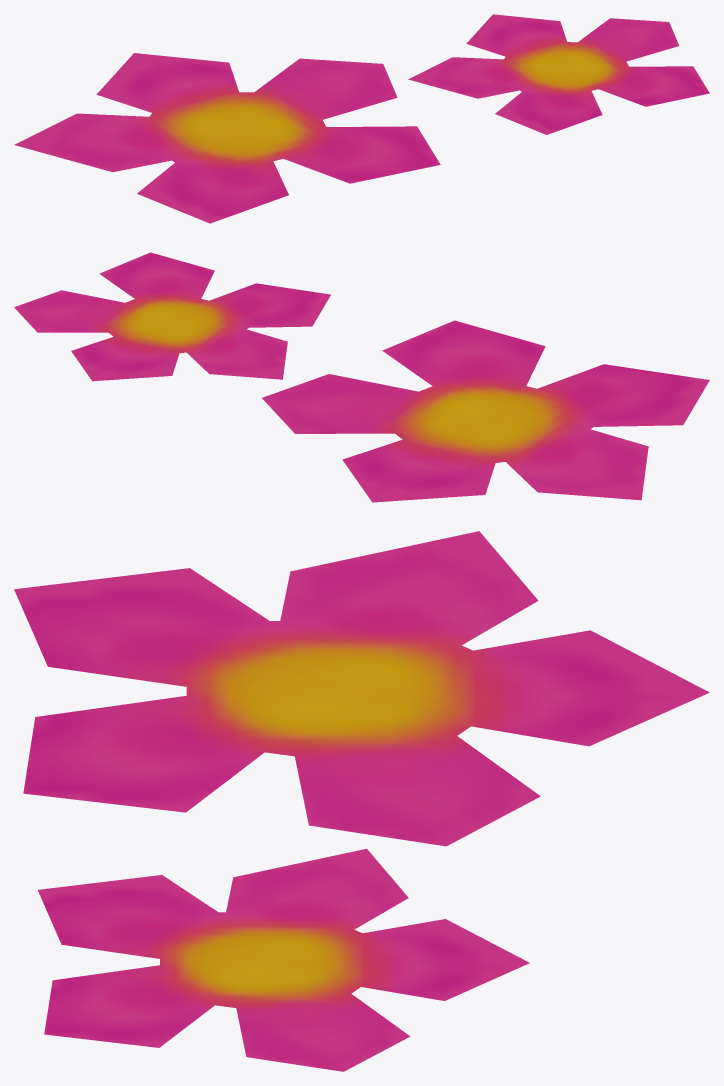
File: rc_01_plt_07_01.FBX
3 views of the same model, one above another, from view 1: azimuth 30°, elevation 25°; view 2: azimuth 150°, elevation 25°; view 3: azimuth 270°, elevation 25° (orthographic). The views are drawn at different scales.
Parts seen in each view (by area): view 1: Plane001, Plane003; view 2: Plane001, Plane003; view 3: Plane001, Plane003.
Part boxes in pixels (x1,y1,x2,y2): Plane001: [14, 53, 440, 223]; Plane003: [408, 14, 709, 134]; Plane001: [262, 320, 709, 502]; Plane003: [14, 252, 330, 381]; Plane001: [14, 531, 709, 846]; Plane003: [38, 848, 529, 1071].
Bounding box in the file's own units: 90.42 × 5.48e-06 × 49.17.
